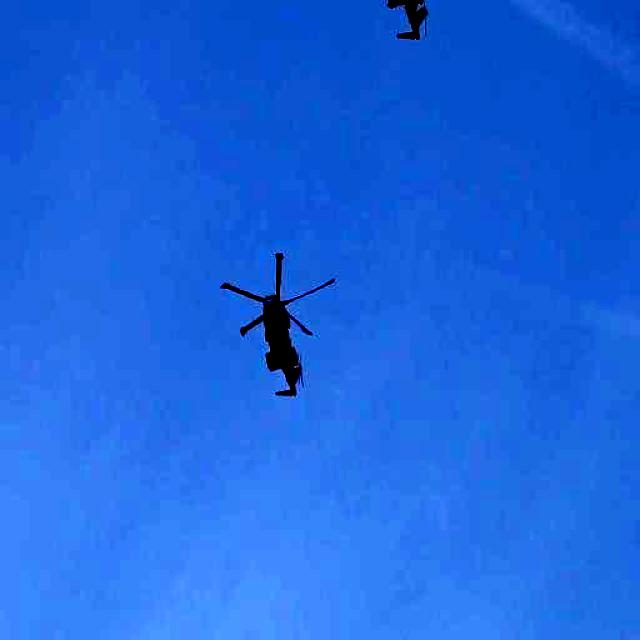drone: (218, 235, 350, 410), (335, 0, 468, 59)
